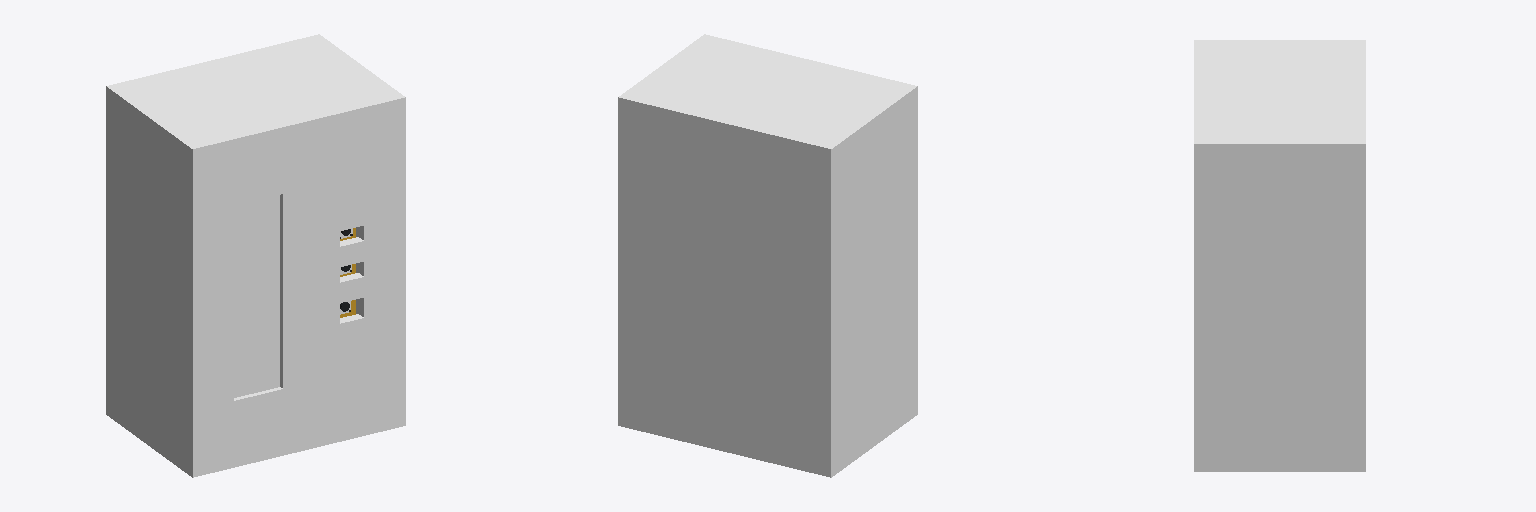
File: tinker.obj
3 renders of one model, left to right at view 1: azimuth 30°, elevation 25°; view 2: azimuth 150°, elevation 25°; view 3: azimuth 270°, elevation 25°, orthographic.
Parts seen in each view (by area): view 1: obj_0; view 2: obj_0; view 3: obj_0.
Boxes of the visible parts, <box> form: obj_0: <box>106,34,405,477</box>; obj_0: <box>618,34,917,477</box>; obj_0: <box>1194,40,1365,471</box>.
Bounding box in the file's own units: 87 × 128 × 61.